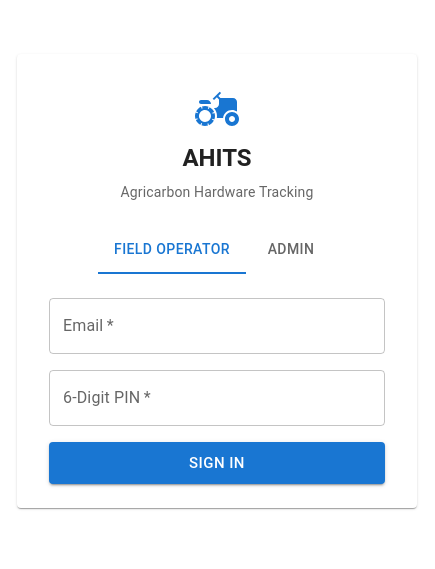
Test: LoginPage — lockout tells the truth (UXP-3 3b) › a locked body renders a warning with the device-local unlock time and the contact
Type "op@test.example" into the field labelled "Email *" at (217, 326), box x1=49 y1=298 x2=385 y2=354
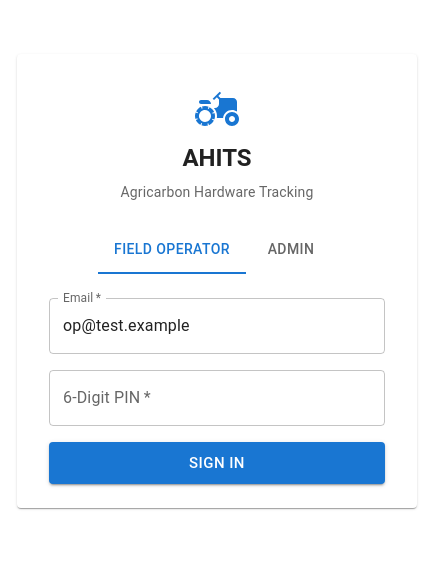
Type "123456" into the password field labelled "6-Digit PIN *" at (217, 398), box x1=49 y1=370 x2=385 y2=426
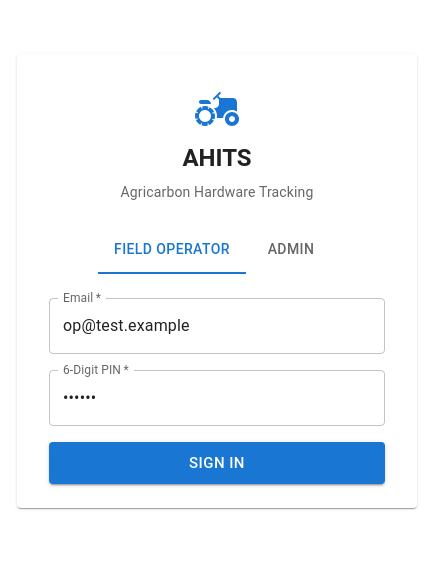
Click the button "Sign In" at (217, 463), box x1=49 y1=442 x2=385 y2=484
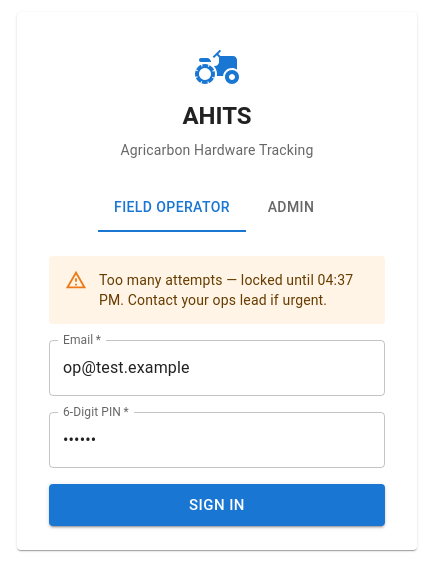
Expected: the button "Sign In" is enabled, x1=49 y1=484 x2=385 y2=526
Expected: the message reads "Too many attempts — locked until 04:37 PM. Contact your ops lead if urgent.", x1=99 y1=272 x2=353 y2=308
Expected: the message shows "Contact your ops lead if urgent.", x1=99 y1=272 x2=353 y2=308
